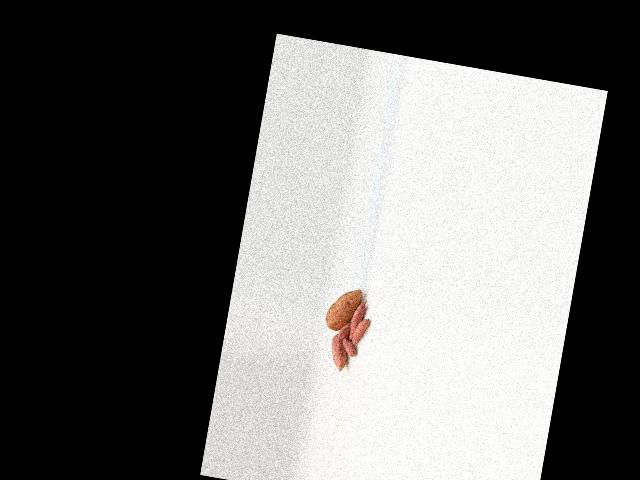sweet_potato: (326, 334, 350, 373)
